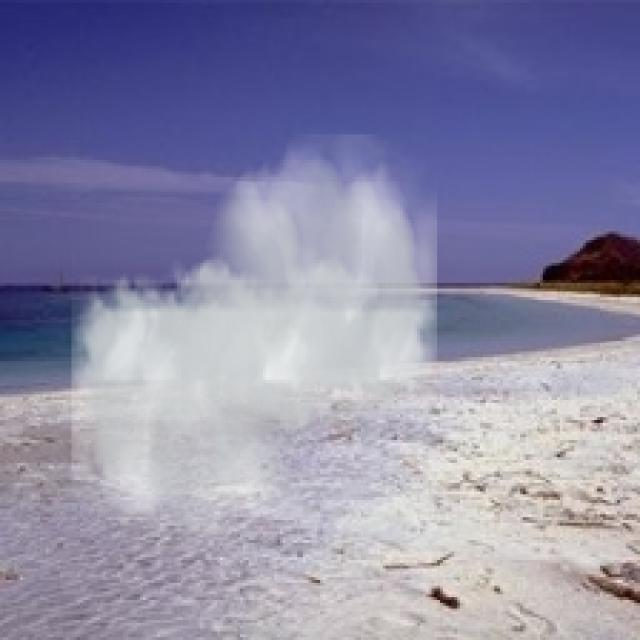Smoke: (72, 134, 437, 557)
